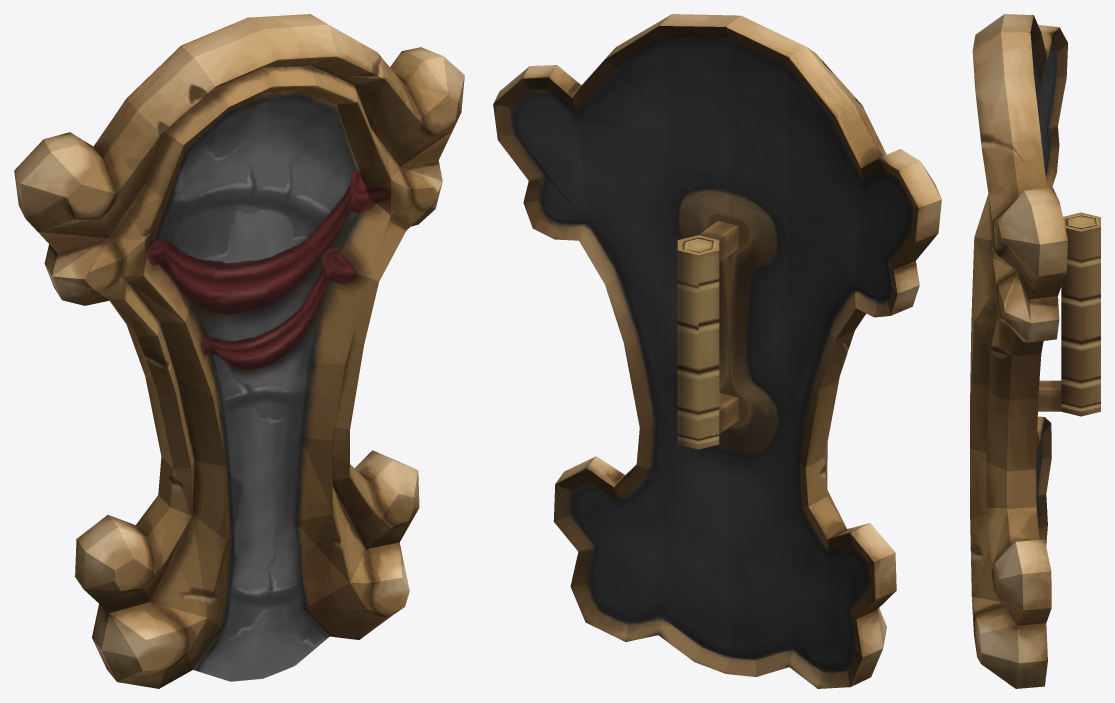
File: shield-4.FBX
3 renders of one model, left to right at view 1: azimuth 30°, elevation 25°; view 2: azimuth 150°, elevation 25°; view 3: azimuth 270°, elevation 25°, orthographic. The views are drawn at different scales.
Visible parts, largest first — view 1: shield-4; view 2: shield-4; view 3: shield-4.
Boxes of the visible parts, <box> form: shield-4: <box>14,14,464,688</box>; shield-4: <box>493,14,941,688</box>; shield-4: <box>970,14,1100,688</box>.
Bounding box in the file's own units: 68.42 × 95.61 × 18.41.
